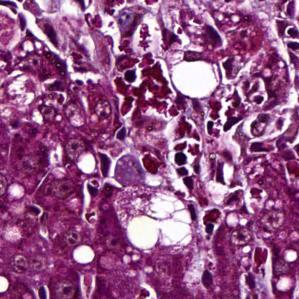ballooning: (114, 183, 196, 251)
